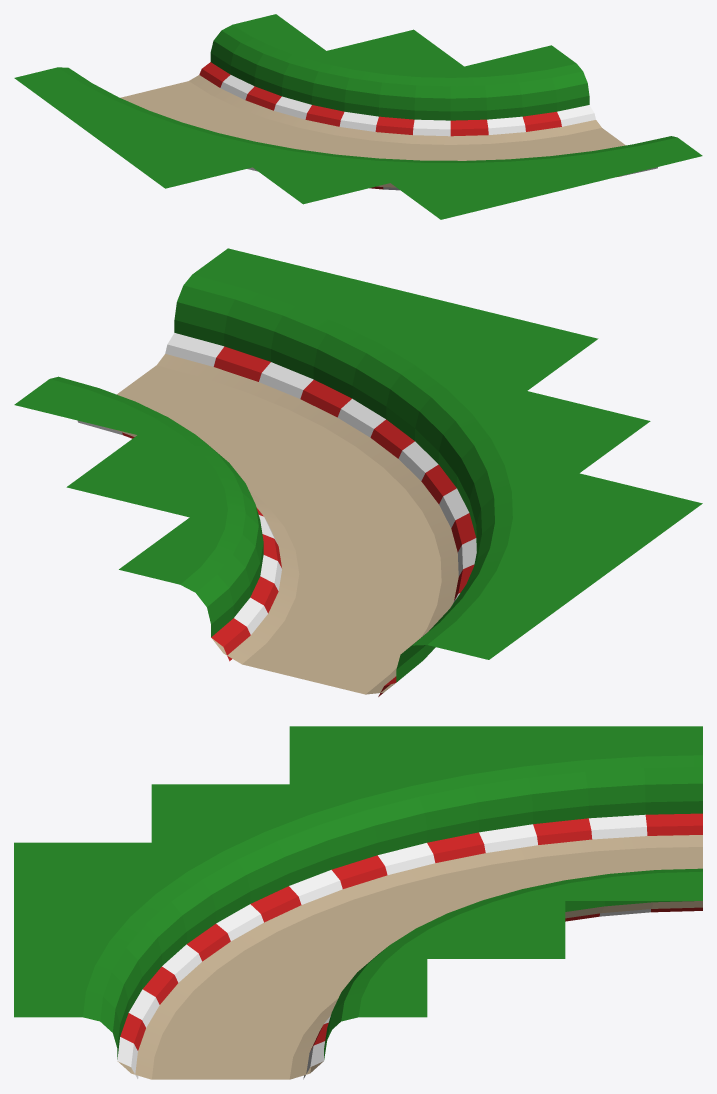
The model's file is Track_Striped_Curve_Single_5x5.obj.
3 renders of one model, top to bottom at view 1: azimuth 30°, elevation 25°; view 2: azimuth 150°, elevation 25°; view 3: azimuth 270°, elevation 25°, orthographic. The views are drawn at different scales.
Parts seen in each view (by area): view 1: Grass, Dirt, Raceline_Color_1, Raceline_Color_2; view 2: Grass, Dirt, Raceline_Color_1, Raceline_Color_2; view 3: Grass, Dirt, Raceline_Color_2, Raceline_Color_1.
Part boxes in pixels (x1,y1,x2,y2): Grass: (14,14,702,219); Dirt: (120,75,625,187); Raceline_Color_1: (220,75,657,190); Raceline_Color_2: (199,62,621,189); Grass: (14,248,702,682); Dirt: (103,354,458,694); Raceline_Color_1: (77,333,476,634); Raceline_Color_2: (122,346,476,696); Grass: (14,726,702,1059); Dirt: (117,835,702,1079); Raceline_Color_2: (120,813,702,1050); Raceline_Color_1: (117,814,650,1079).
Bounding box in the file's own units: 5 × 0.5 × 5.
